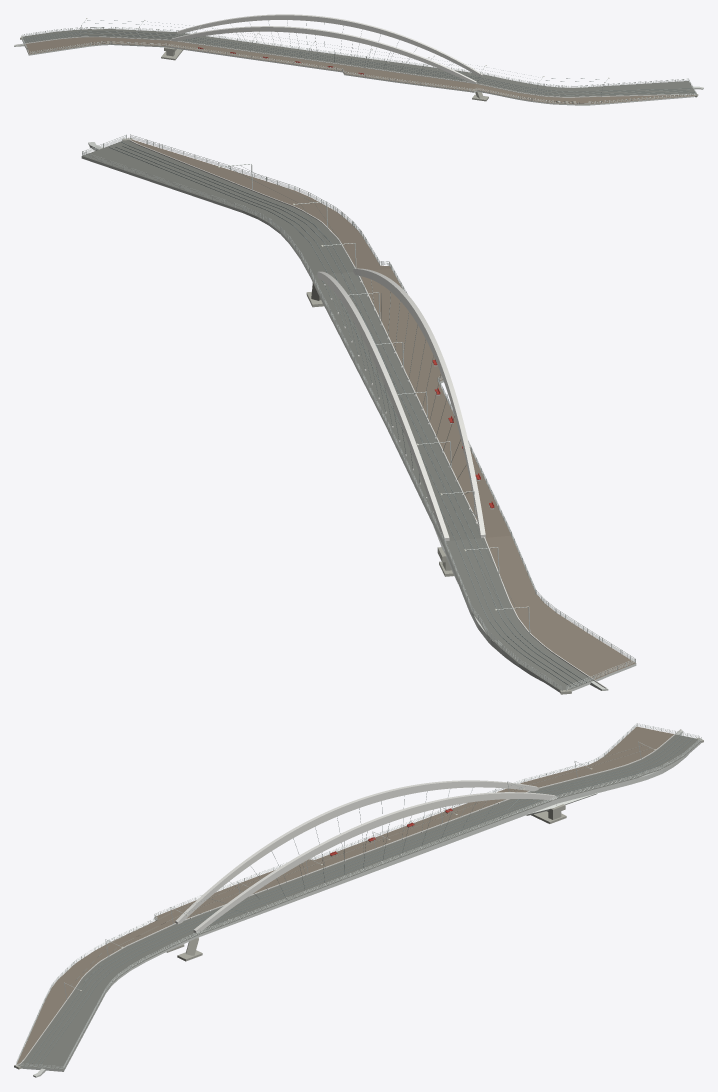
File: pont-raymond-barre-near.glb
The picture shows the model from 3 angles, top to bottom: view 1: azimuth 30°, elevation 25°; view 2: azimuth 150°, elevation 25°; view 3: azimuth 270°, elevation 25°; orthographic projection. The views are drawn at different scales.
Visible parts, largest first — view 1: pont-raymond-barre-0-track, pont-raymond-barre-0-walk, pont-raymond-barre-0-arch, pont-raymond-barre-0-hanger, pont-raymond-barre-0-railing, pont-raymond-barre-0-deck, pont-raymond-barre-0-concrete; view 2: pont-raymond-barre-0-track, pont-raymond-barre-0-walk, pont-raymond-barre-0-arch, pont-raymond-barre-0-railing, pont-raymond-barre-0-hanger, pont-raymond-barre-0-deck; view 3: pont-raymond-barre-0-track, pont-raymond-barre-0-walk, pont-raymond-barre-0-arch, pont-raymond-barre-0-railing, pont-raymond-barre-0-hanger, pont-raymond-barre-0-deck, pont-raymond-barre-0-concrete.
Boxes of the visible parts, x1,y1,x2,y2 form: pont-raymond-barre-0-track: [22, 29, 695, 97]; pont-raymond-barre-0-walk: [24, 37, 694, 104]; pont-raymond-barre-0-arch: [14, 14, 697, 97]; pont-raymond-barre-0-hanger: [23, 20, 695, 95]; pont-raymond-barre-0-railing: [21, 19, 696, 103]; pont-raymond-barre-0-deck: [14, 29, 703, 105]; pont-raymond-barre-0-concrete: [20, 36, 698, 101]; pont-raymond-barre-0-track: [82, 140, 592, 690]; pont-raymond-barre-0-walk: [131, 139, 635, 679]; pont-raymond-barre-0-arch: [128, 137, 606, 688]; pont-raymond-barre-0-railing: [82, 134, 635, 690]; pont-raymond-barre-0-hanger: [109, 141, 586, 687]; pont-raymond-barre-0-deck: [81, 142, 636, 693]; pont-raymond-barre-0-track: [18, 734, 701, 1069]; pont-raymond-barre-0-walk: [16, 726, 674, 1064]; pont-raymond-barre-0-arch: [15, 729, 681, 1066]; pont-raymond-barre-0-railing: [16, 723, 701, 1069]; pont-raymond-barre-0-hanger: [24, 735, 693, 1066]; pont-raymond-barre-0-deck: [15, 730, 701, 1077]; pont-raymond-barre-0-concrete: [14, 737, 703, 1069].
Size of the model in its own units: 256 by 25.01 by 215.
